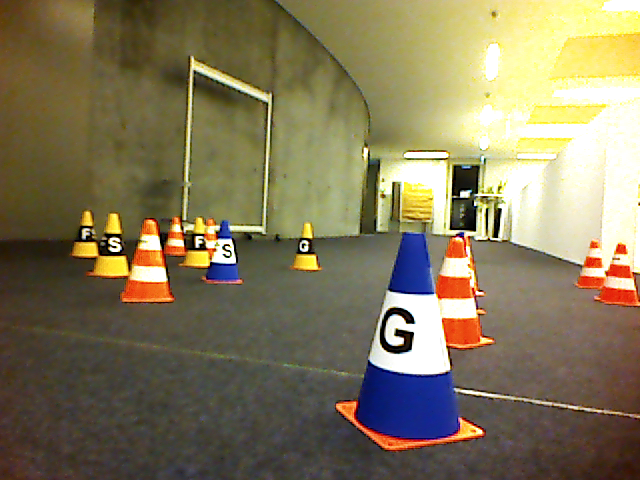bluecone: (337, 232, 488, 451), (202, 220, 244, 285)
yellowcone: (93, 212, 133, 279), (291, 221, 322, 272)
